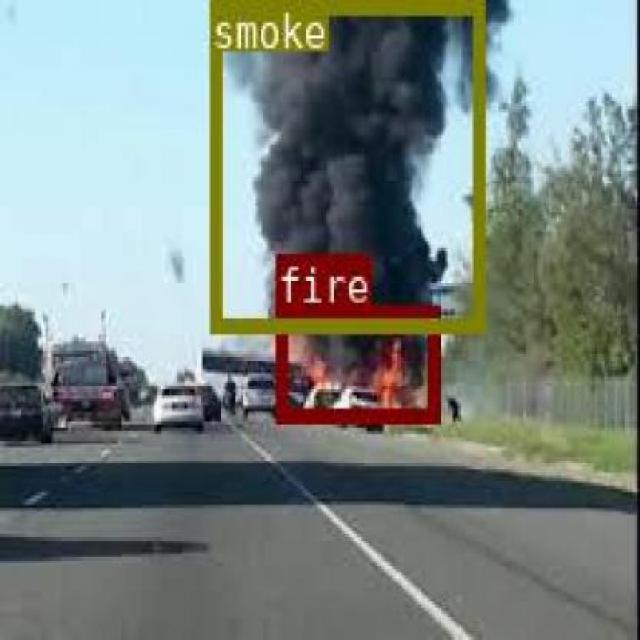Fire: (274, 304, 437, 419)
Smoke: (209, 0, 483, 331)
